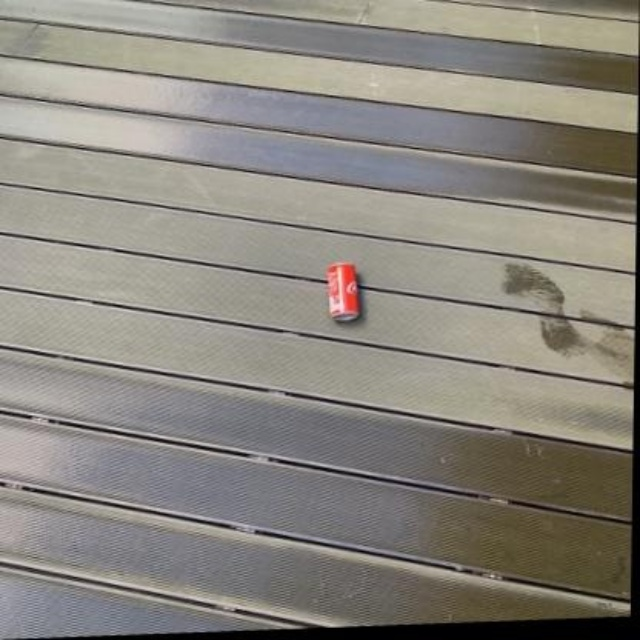trash: (328, 263, 358, 320)
